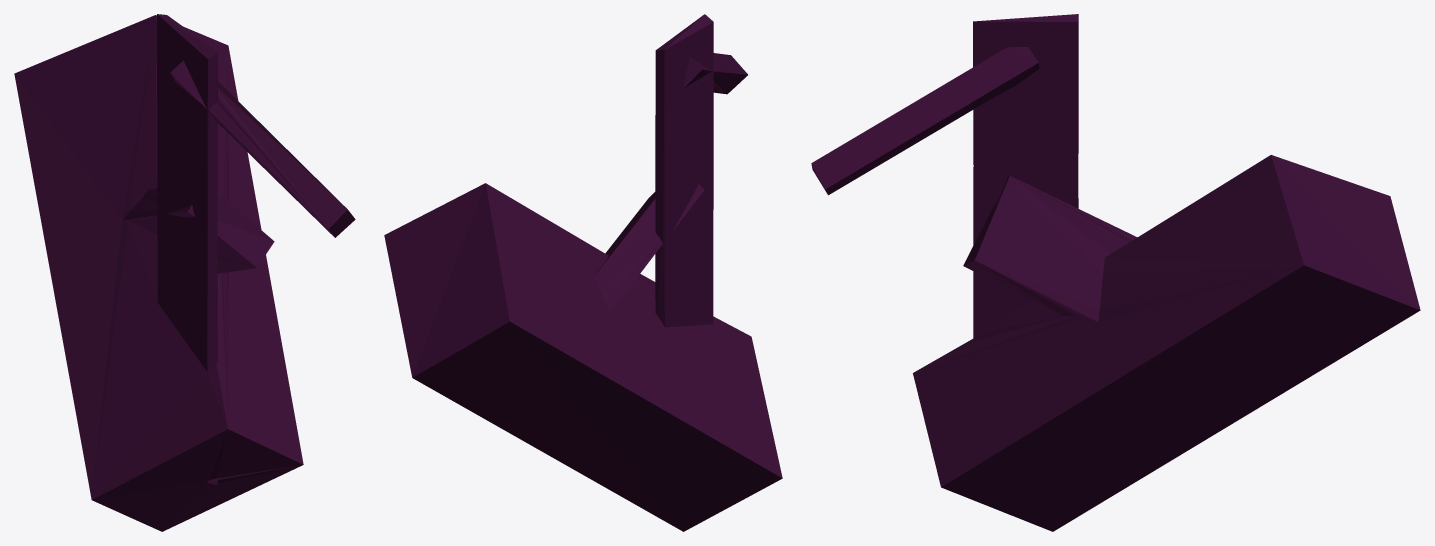
The picture shows the model from 3 angles, left to right: view 1: azimuth 30°, elevation 25°; view 2: azimuth 150°, elevation 25°; view 3: azimuth 270°, elevation 25°; orthographic projection. The views are drawn at different scales.
Visible parts, largest first — view 1: 393_Cube.1597; view 2: 393_Cube.1597; view 3: 393_Cube.1597.
Part boxes in pixels (x1=…): 393_Cube.1597: x1=14, y1=14, x2=355, y2=531; 393_Cube.1597: x1=384, y1=14, x2=782, y2=531; 393_Cube.1597: x1=811, y1=14, x2=1420, y2=531.
Bounding box in the file's own units: 8.01 × 14.12 × 14.95.
